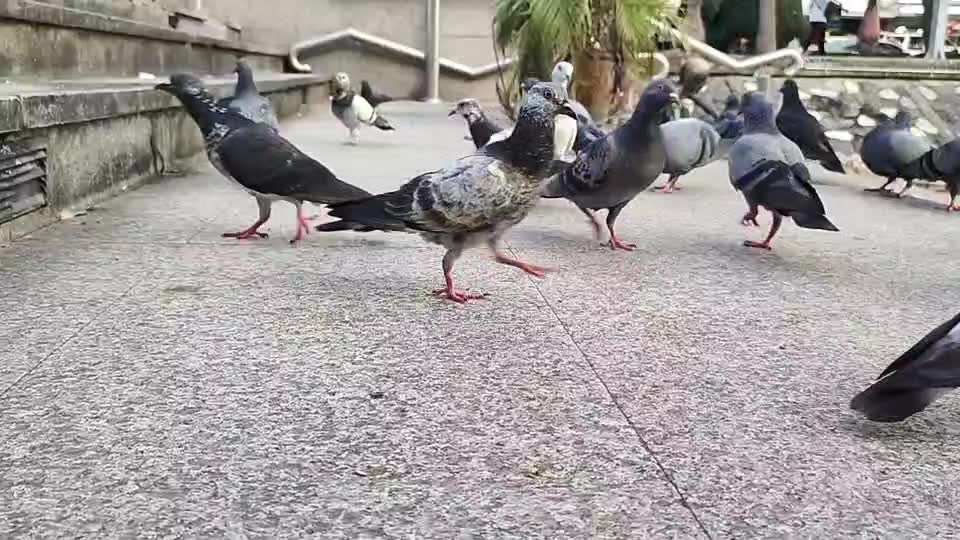Pigeon: (314, 80, 580, 304), (152, 71, 375, 243), (538, 77, 683, 251), (726, 90, 840, 250), (848, 310, 959, 423), (851, 108, 935, 198), (774, 78, 846, 174), (327, 71, 395, 145), (893, 135, 959, 211), (216, 59, 280, 133), (447, 97, 506, 150)
